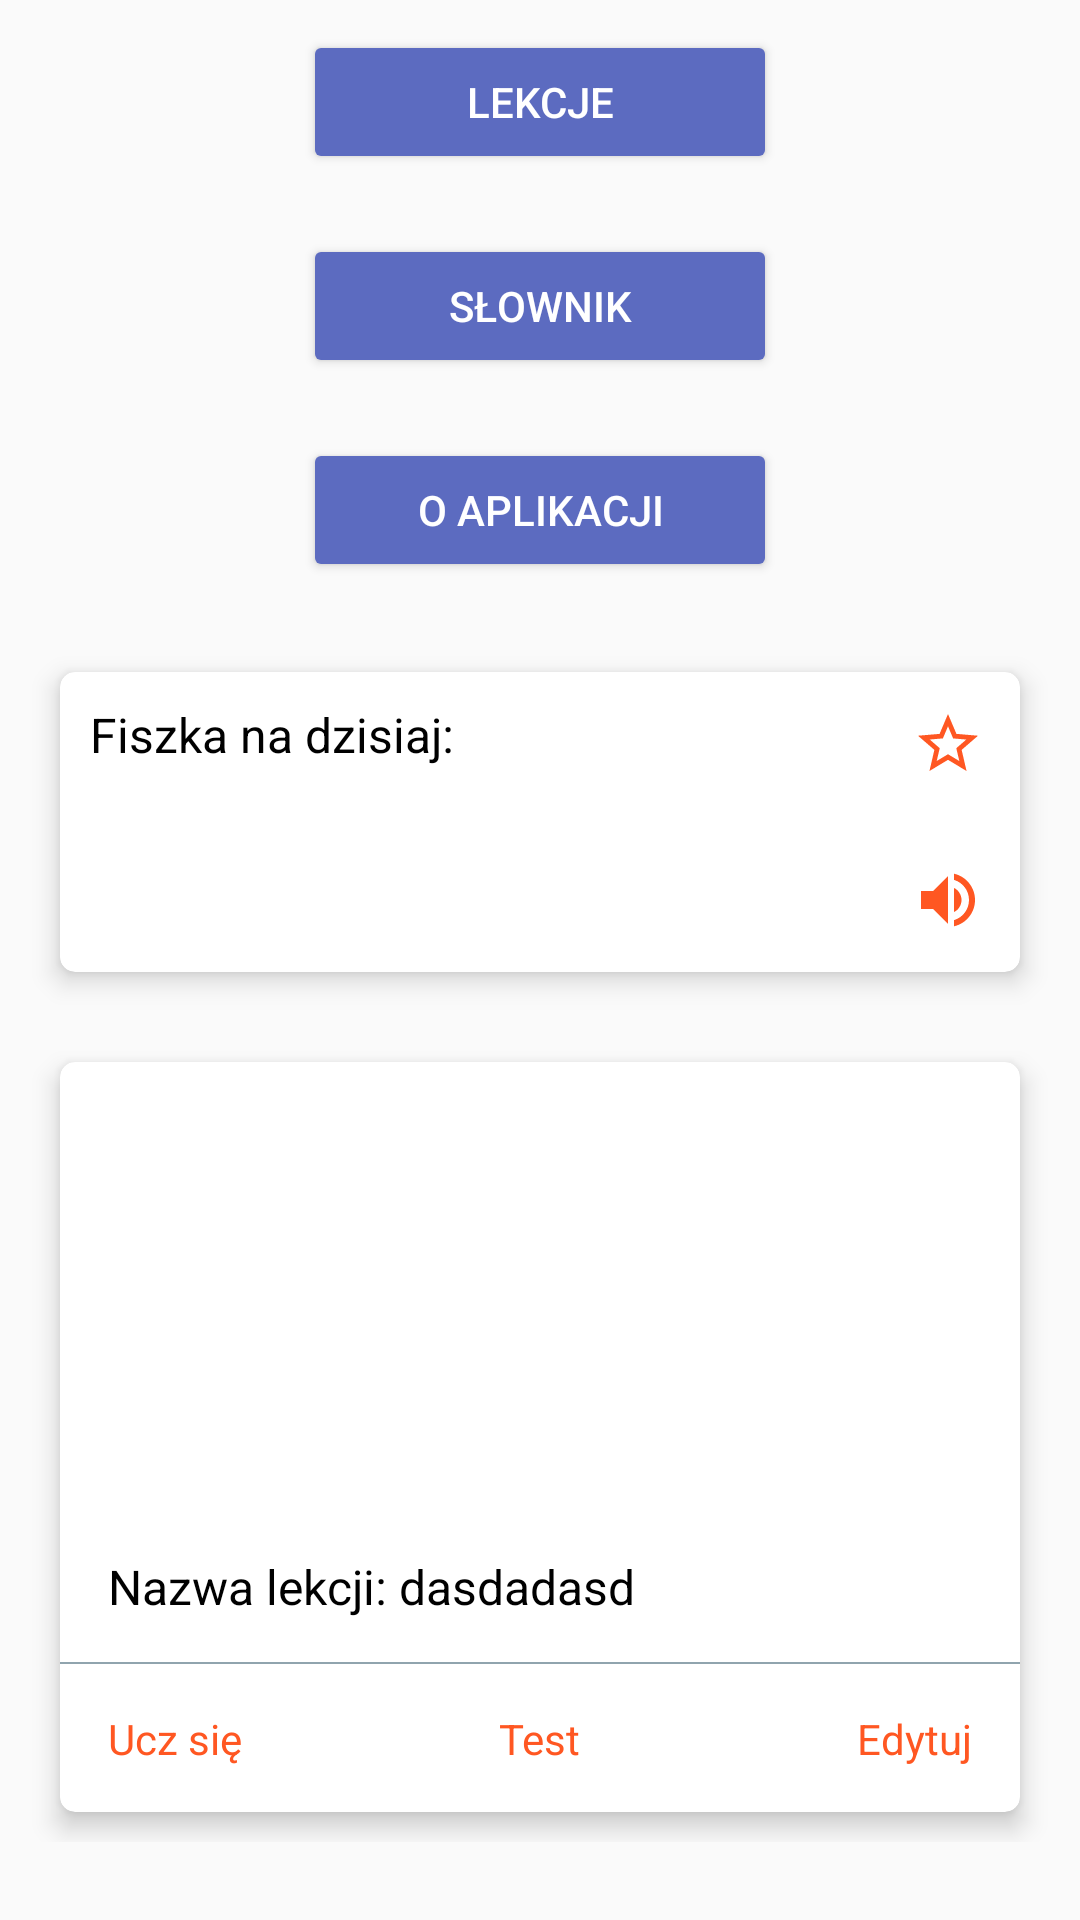

Icon click points for this 1080w x 1920h phone screenshot, format [x,y]:
star border: [948,742]
volume up: [948,900]
